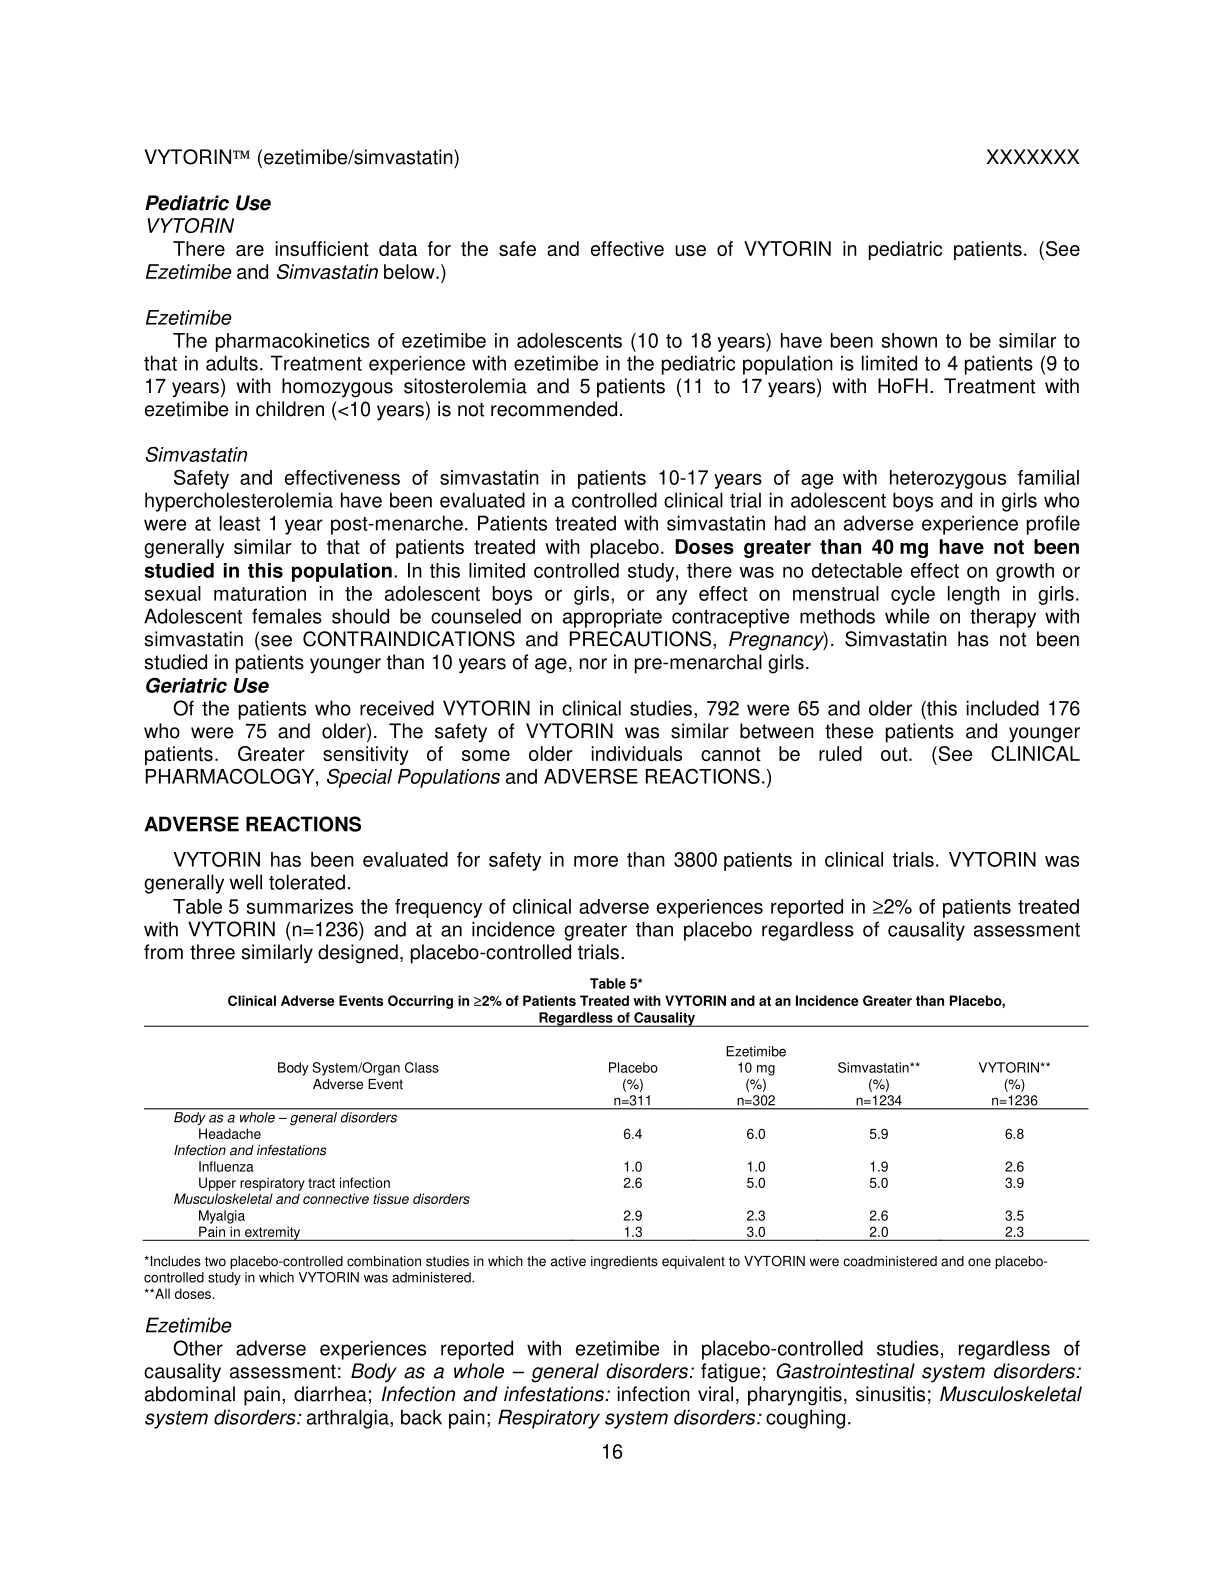partial_lined_merged_cells: (140, 1025, 1090, 1243)
